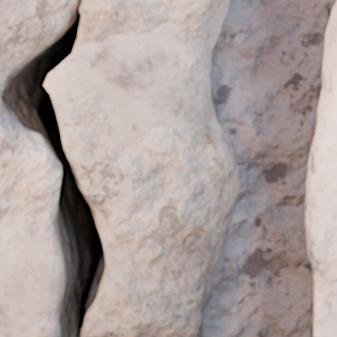brick: (306, 3, 336, 336)
broken_brick: (46, 0, 240, 336), (0, 103, 62, 336), (0, 0, 79, 90)
crack: (0, 0, 107, 336)
